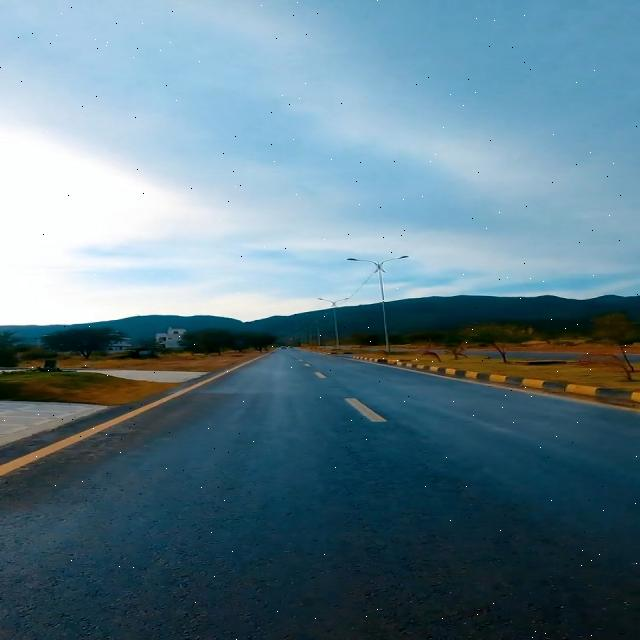lane: (0, 352, 269, 475)
road: (2, 349, 638, 639), (0, 352, 269, 475)
